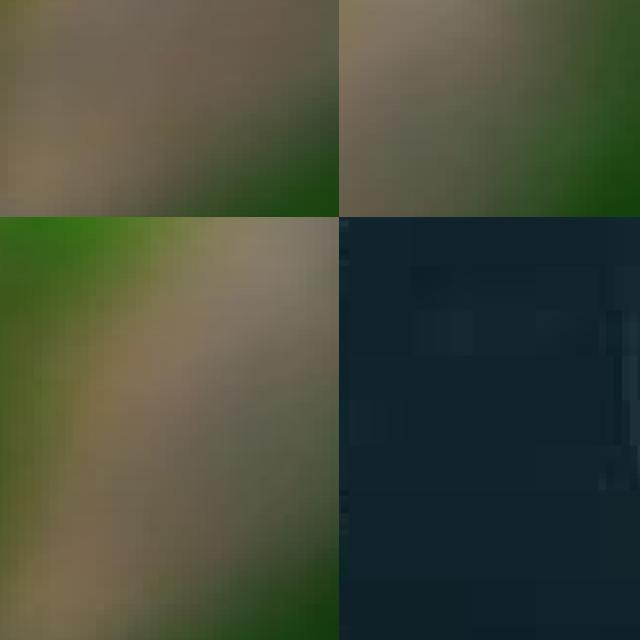fish: (0, 284, 339, 640), (0, 0, 339, 217), (339, 0, 640, 217)
